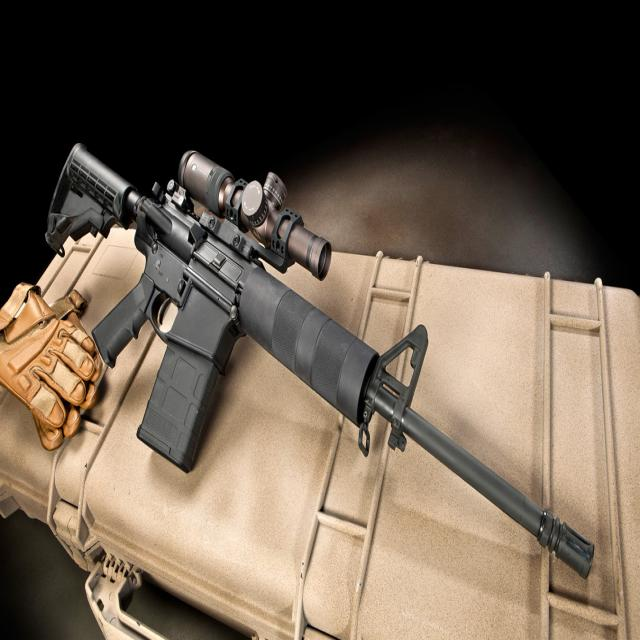Rifle: (44, 145, 595, 578)
